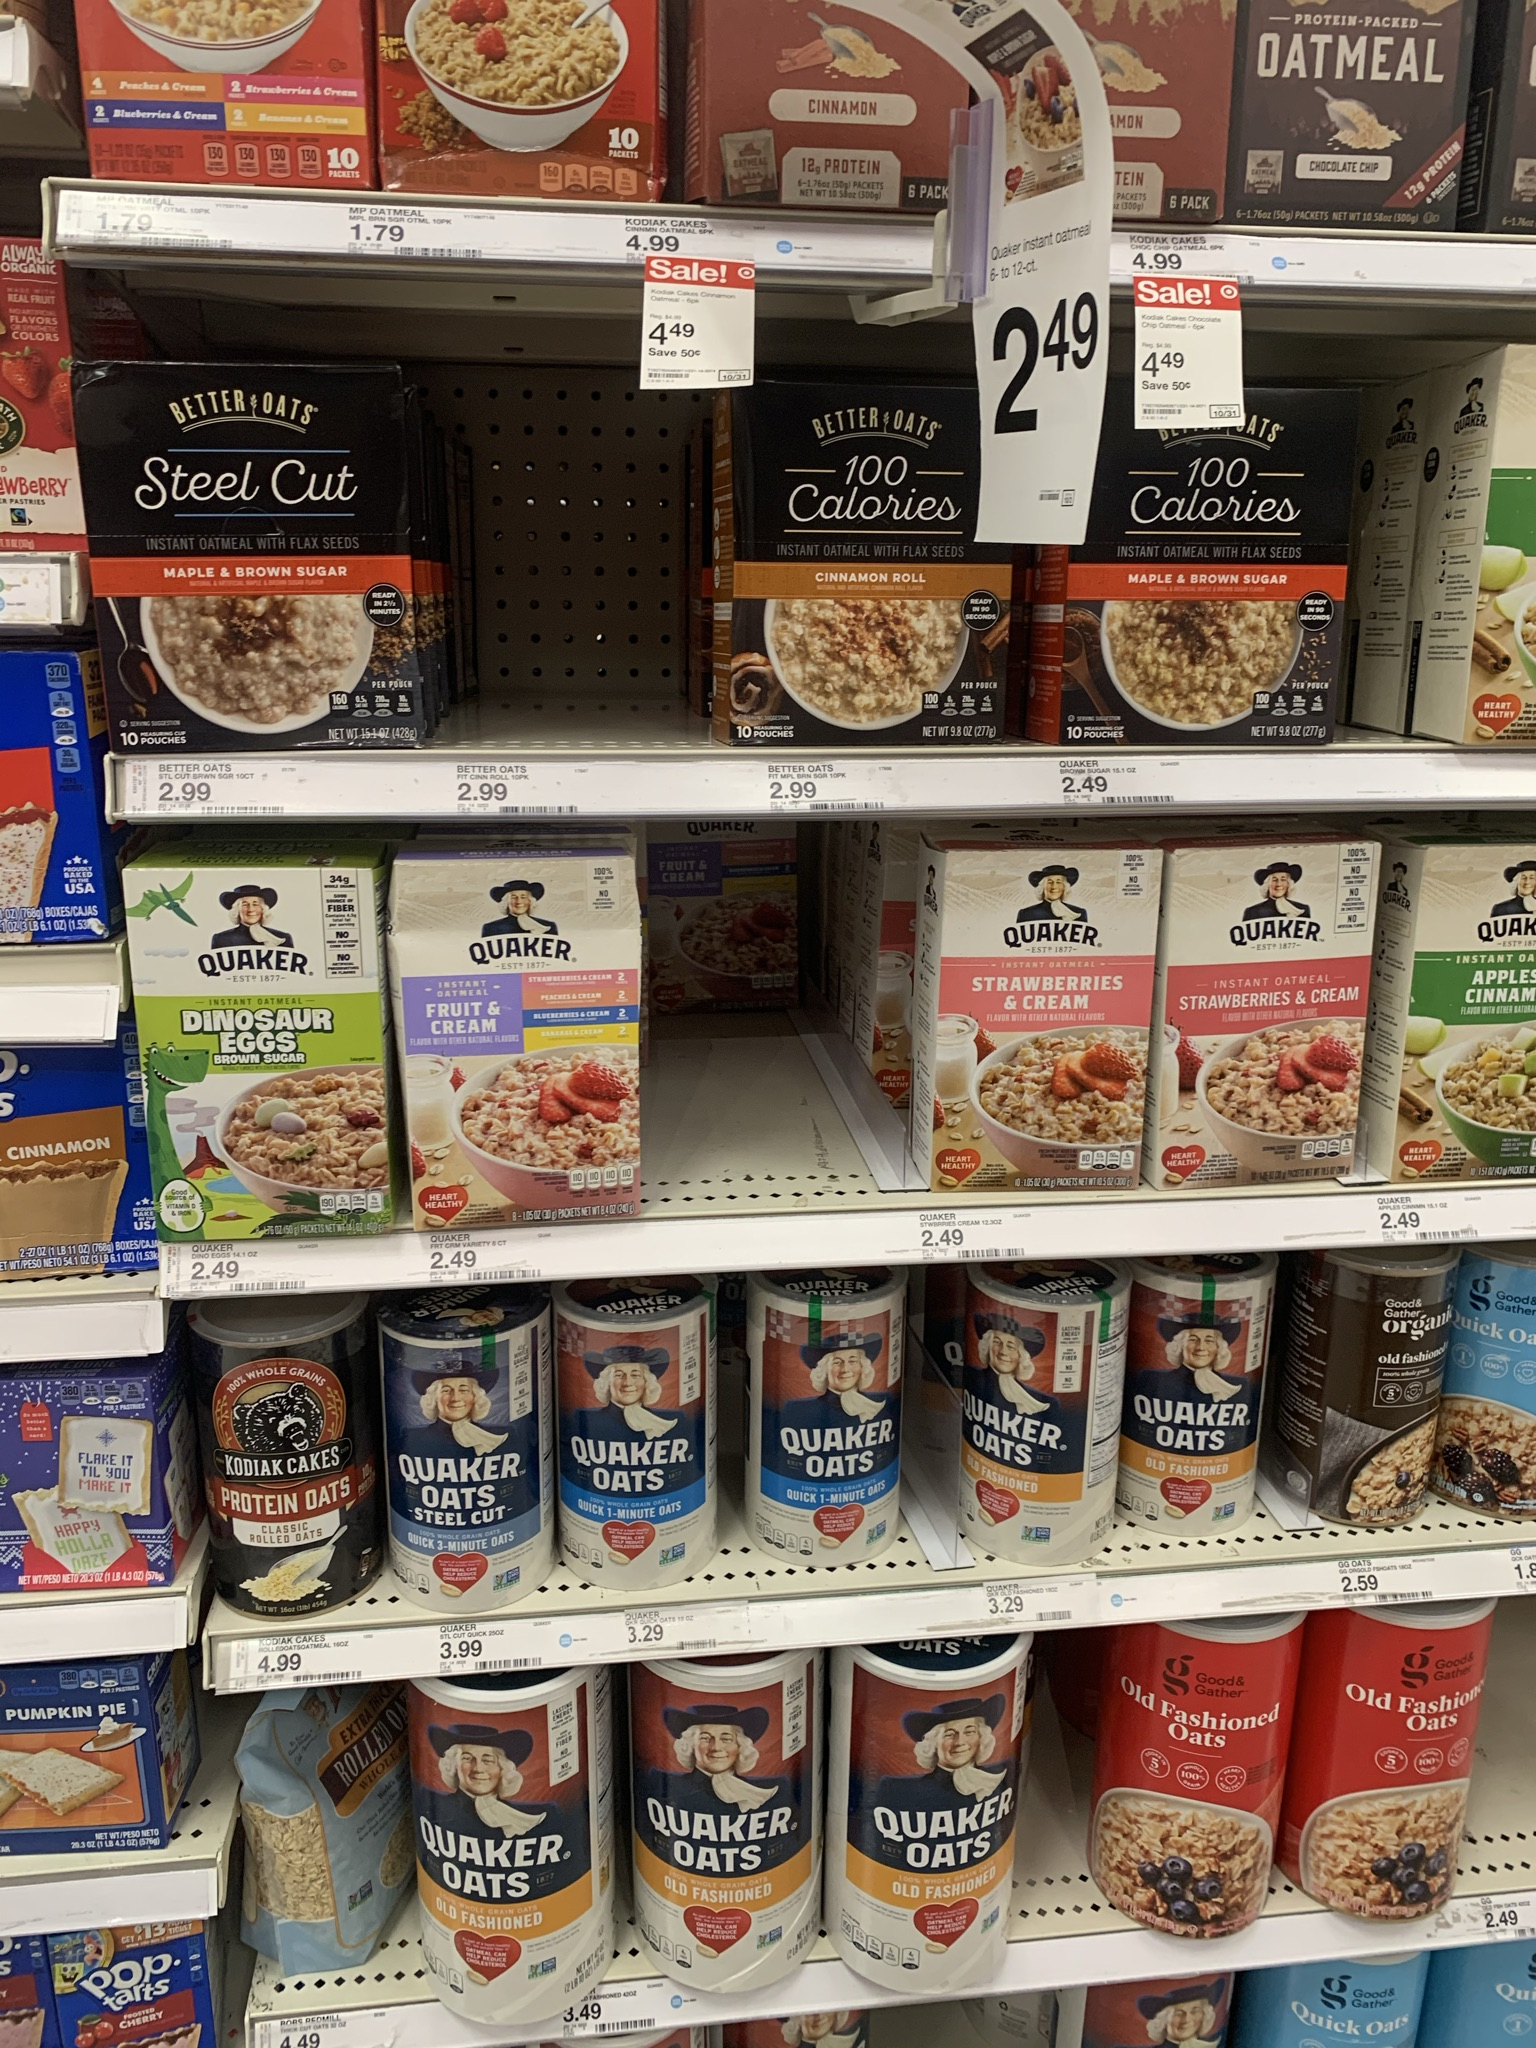box: (94, 376, 402, 727), (145, 892, 374, 1221), (402, 877, 629, 1205), (1112, 443, 1342, 748), (755, 418, 965, 739), (929, 864, 1136, 1185), (1176, 864, 1354, 1177), (1404, 866, 1536, 1174)
can: (444, 1696, 597, 1996), (644, 1696, 815, 1959), (1128, 1643, 1284, 1916), (858, 1672, 1004, 1954), (1313, 1637, 1463, 1900), (382, 1330, 542, 1576), (975, 1308, 1121, 1538), (223, 1350, 357, 1601), (573, 1327, 712, 1559), (1304, 1272, 1431, 1501), (768, 1309, 892, 1543), (1154, 1285, 1263, 1509)
